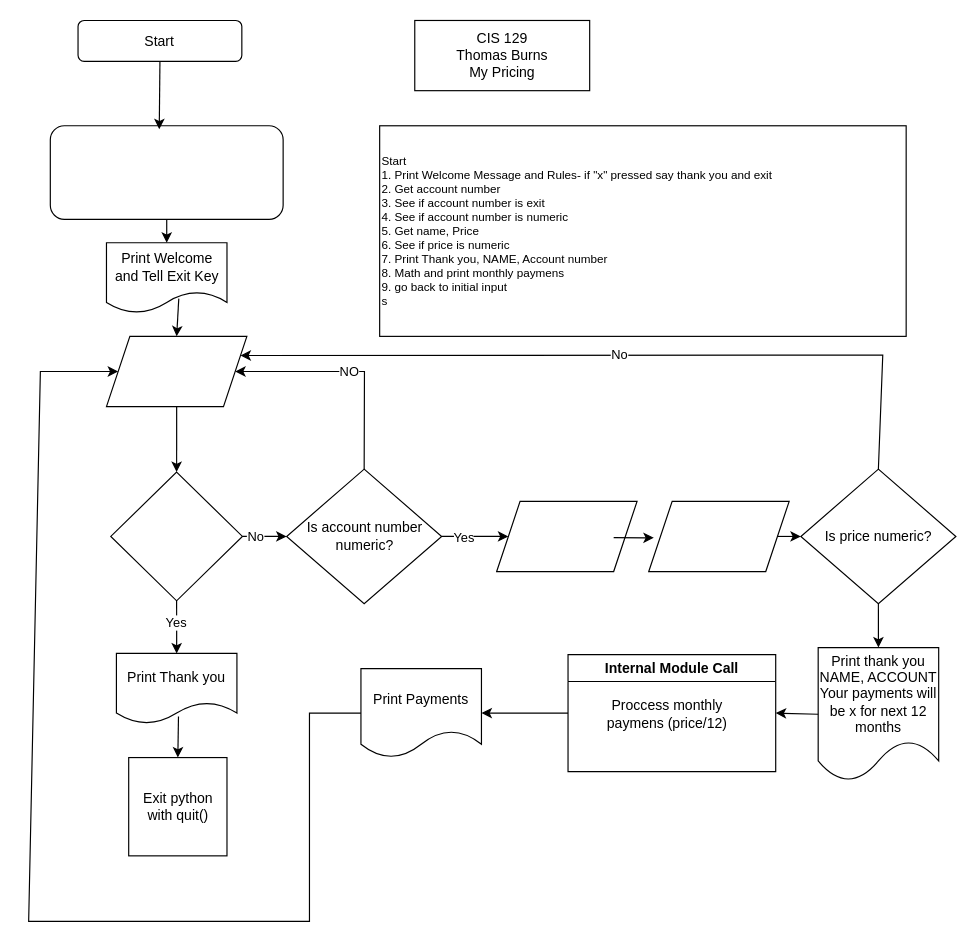
Some shapes in this 977 by 951 pixel diagram are drawn without their labels. The box of each missing label's shape, as (x1, y1, x2, y2) in pixels:
Declare sentinel value=x imputval="" boolTruth=FALSE: (49, 125, 283, 219)
Get price amount: (648, 500, 789, 572)
Get user account number: (105, 335, 247, 407)
Get User name: (495, 500, 637, 572)
See if input is "x": (110, 471, 242, 601)
